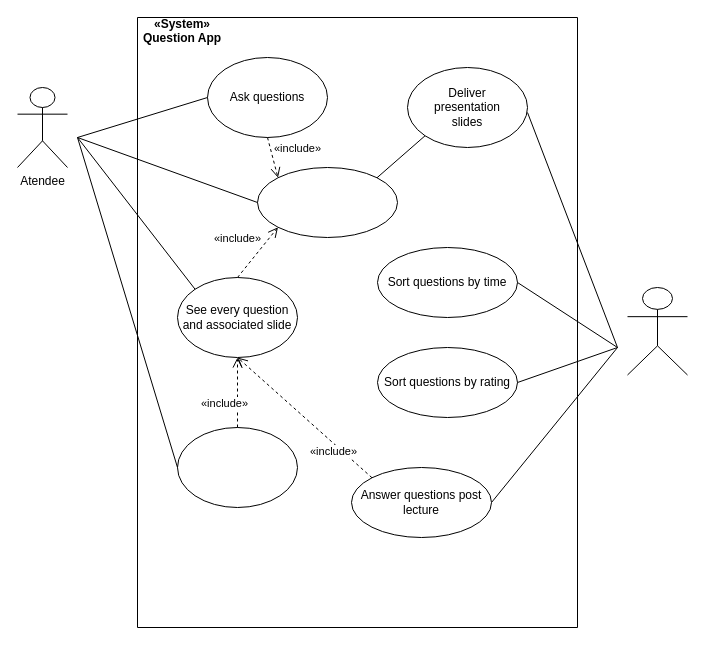
Some shapes in this 705 by 646 pixel diagram are drawn without their labels. The shapes that lost their labels are listed below. From the top down, each one's centre as x and y in pixels, then its label:
At point 327,202: "See slides".
At point 657,330: "Speaker".
At point 237,467: "Rate questions".
